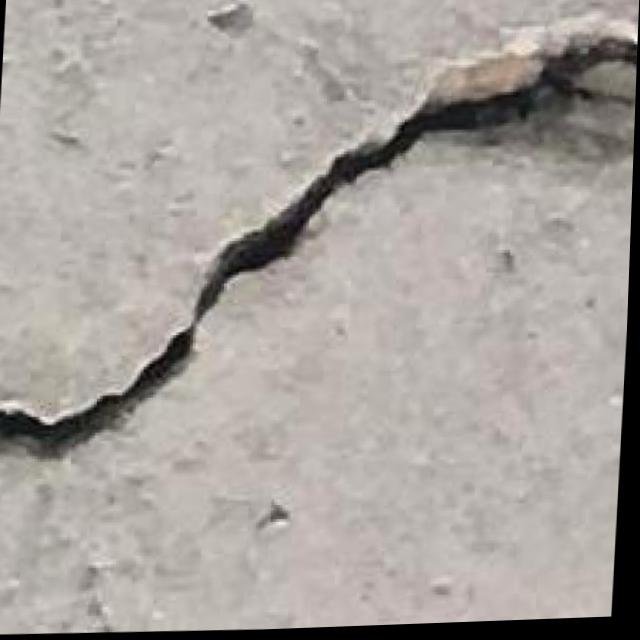Crack: (0, 20, 639, 468)
